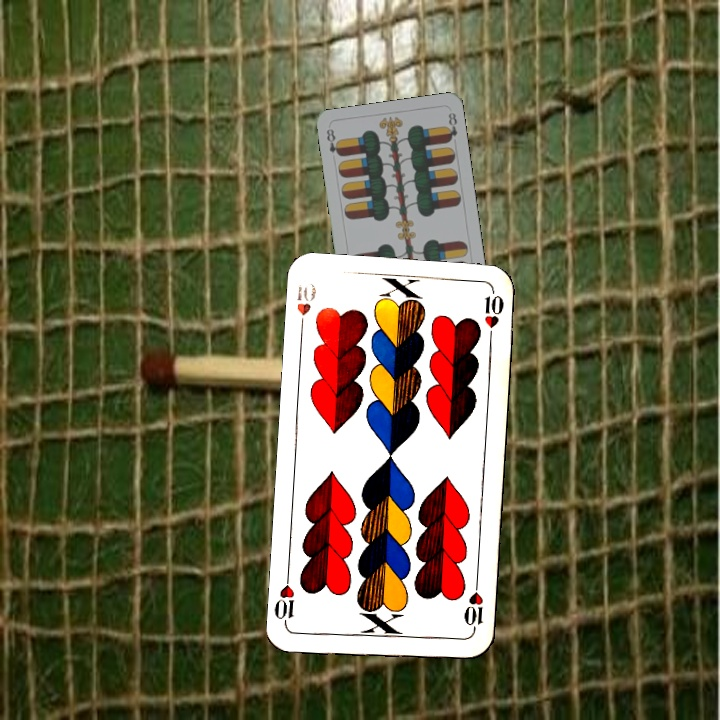E8: (323, 125, 343, 159)
H10: (292, 279, 319, 336), (460, 578, 486, 637)
